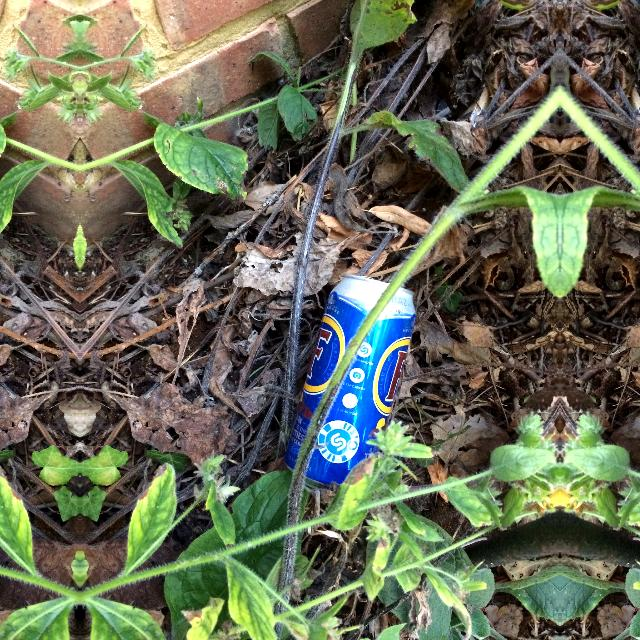Metal: (279, 270, 417, 498)
